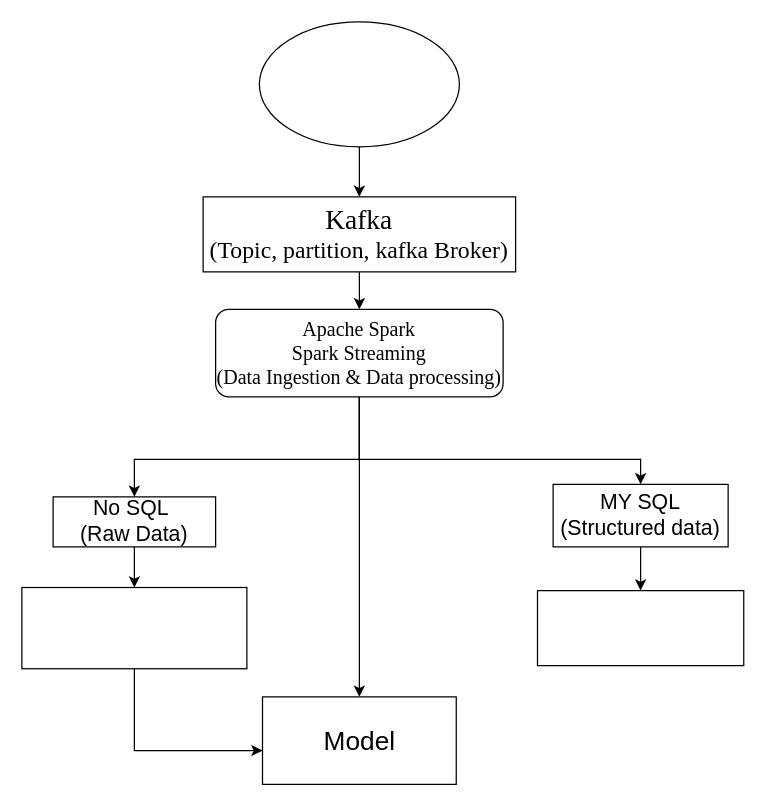
Some shapes in this 766 by 806 pixel diagram are drawn without their labels. The box of each missing label's shape, as (x1, y1, x2, y2) in pixels:
Cassandra/ MongoDB Database: (21, 586, 247, 669)
Messages are sent by our machines: (258, 21, 459, 147)
Real Time Dashboard/ Visualization: (536, 589, 744, 666)
